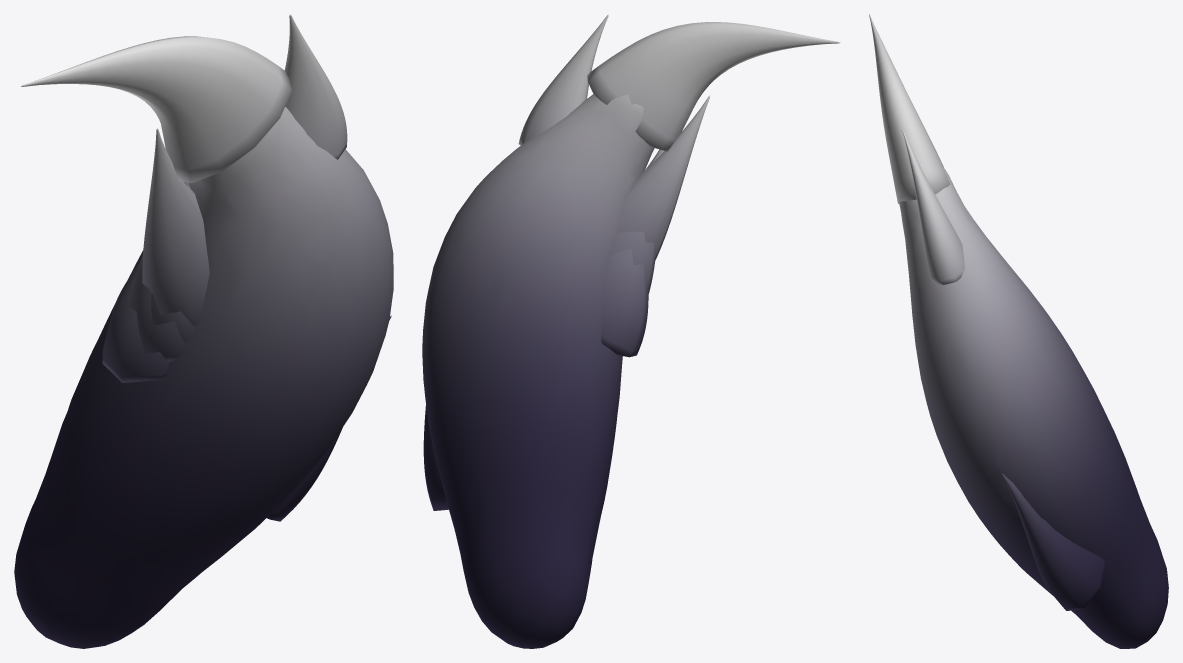
Rendered from monarca_chama_meio.fbx.
The picture shows the model from 3 angles, left to right: view 1: azimuth 30°, elevation 25°; view 2: azimuth 150°, elevation 25°; view 3: azimuth 270°, elevation 25°; orthographic projection. The views are drawn at different scales.
Visible parts, largest first — view 1: monarca_chama_meio; view 2: monarca_chama_meio; view 3: monarca_chama_meio.
Boxes of the visible parts, x1,y1,x2,y2 form: monarca_chama_meio: (14, 14, 393, 648); monarca_chama_meio: (422, 14, 840, 648); monarca_chama_meio: (869, 14, 1168, 648).
Bounding box in the file's own units: 1.85 × 2.87 × 1.44.
